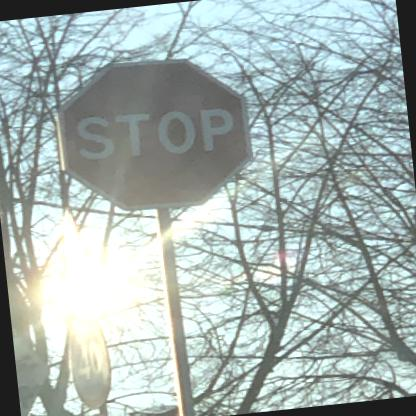stop: (50, 47, 257, 218)
